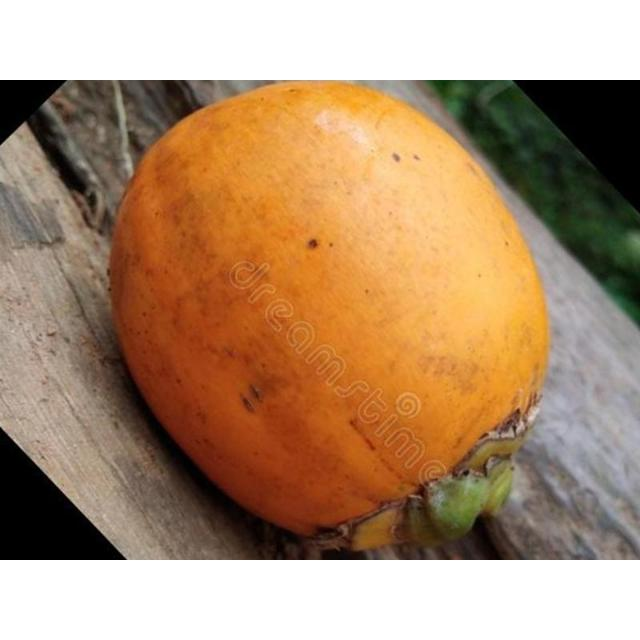good: (106, 81, 557, 541)
